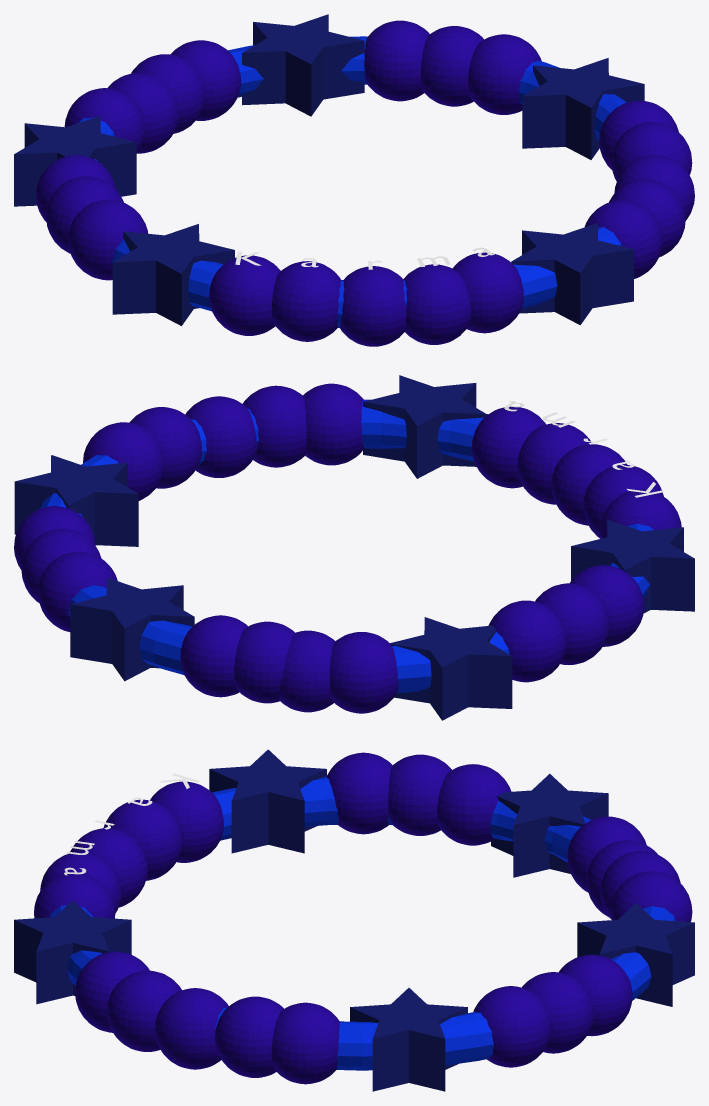
Rendered from Midnights_Karma.fbx.
The picture shows the model from 3 angles, top to bottom: view 1: azimuth 30°, elevation 25°; view 2: azimuth 150°, elevation 25°; view 3: azimuth 270°, elevation 25°; orthographic projection.
Visible parts, largest first — view 1: Torus.040; view 2: Torus.040; view 3: Torus.040.
Boxes of the visible parts, <box> form: Torus.040: <box>14,14,694,346</box>; Torus.040: <box>14,375,694,720</box>; Torus.040: <box>14,749,694,1091</box>.
Size of the model in its own units: 117 by 15.79 by 117.
